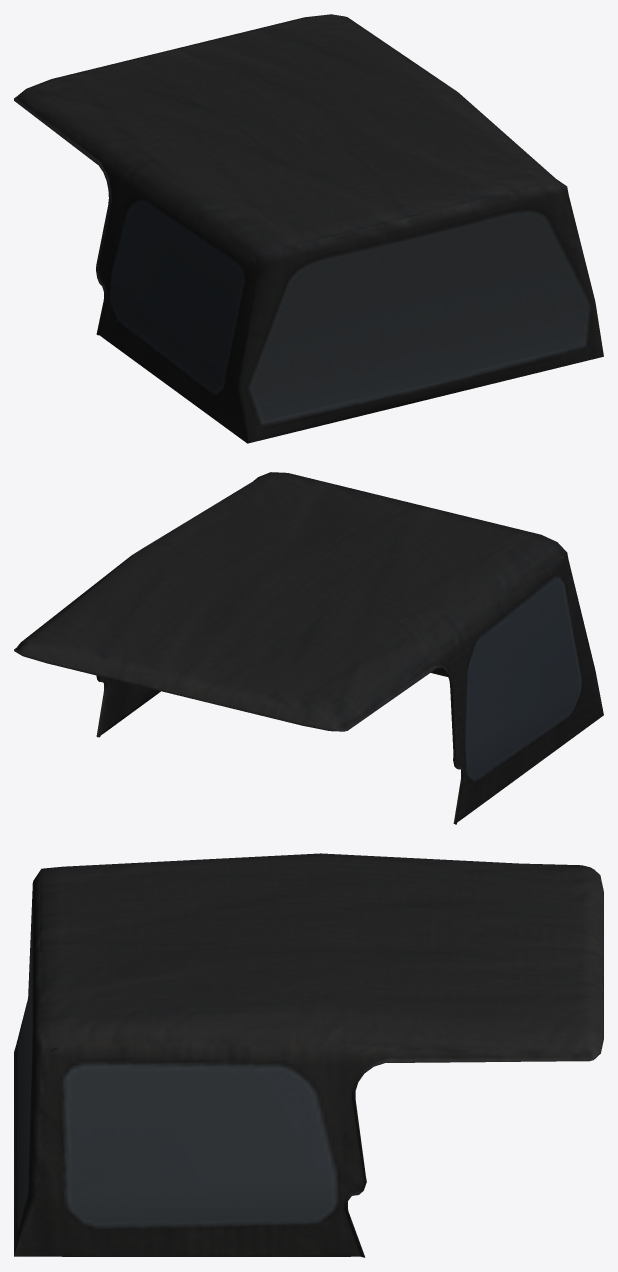
The model's file is CJ7Tarp_WorldItem.fbx.
3 views of the same model, one above another, from view 1: azimuth 30°, elevation 25°; view 2: azimuth 150°, elevation 25°; view 3: azimuth 270°, elevation 25° (orthographic). The views are drawn at different scales.
Visible parts, largest first — view 1: Softtop_obj_Plane.015; view 2: Softtop_obj_Plane.015; view 3: Softtop_obj_Plane.015.
Boxes of the visible parts, x1,y1,x2,y2 form: Softtop_obj_Plane.015: (14, 14, 603, 443); Softtop_obj_Plane.015: (14, 472, 603, 824); Softtop_obj_Plane.015: (14, 853, 603, 1257).
Bounding box in the file's own units: 2.28 × 1.14 × 2.76.
